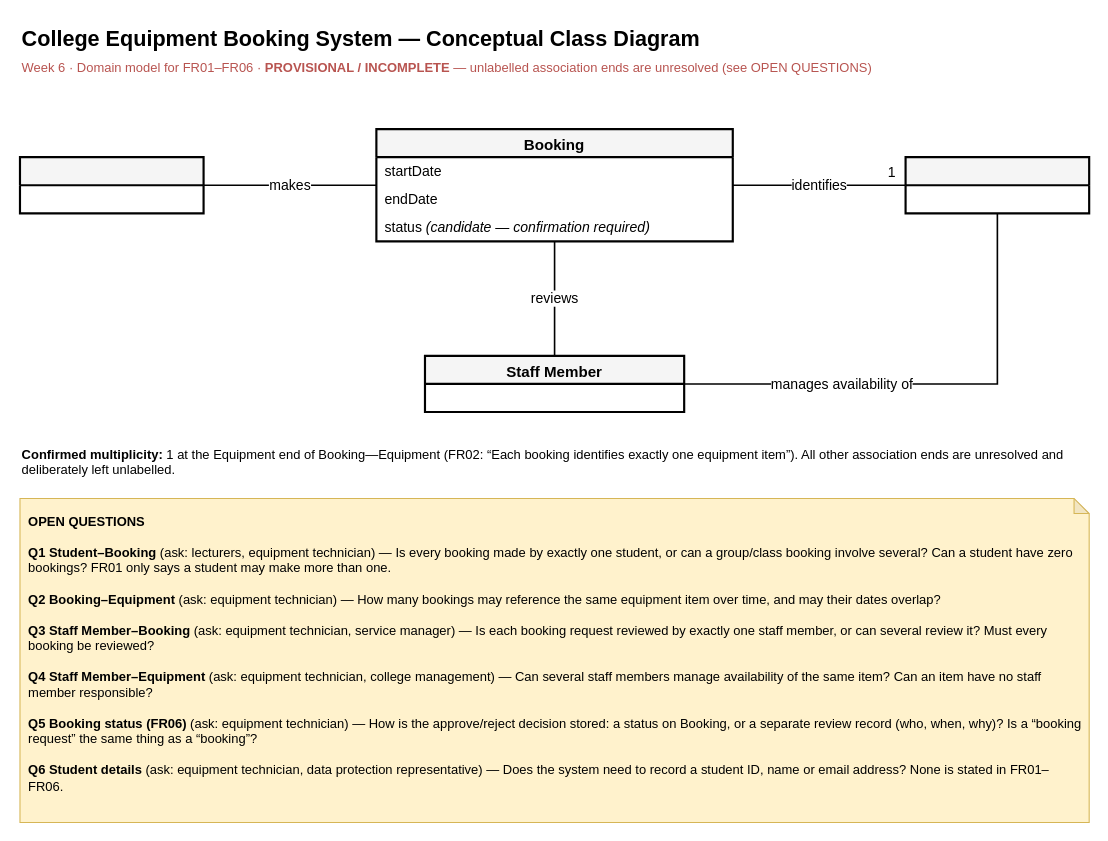
The diagram is 1108 pixels wide and 841 high, and some of its shapes have lost their labels. The shapes that lost their labels are listed below. From the top down, each one's centre as x and y in pixels, then its label:
At (x=111, y=185): "Student".
At (x=997, y=185): "Equipment".
